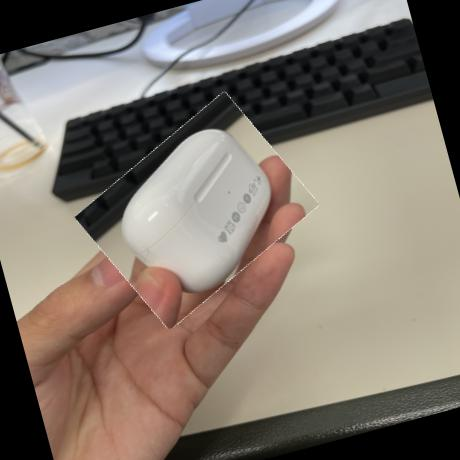airpod3: (68, 94, 326, 326)
